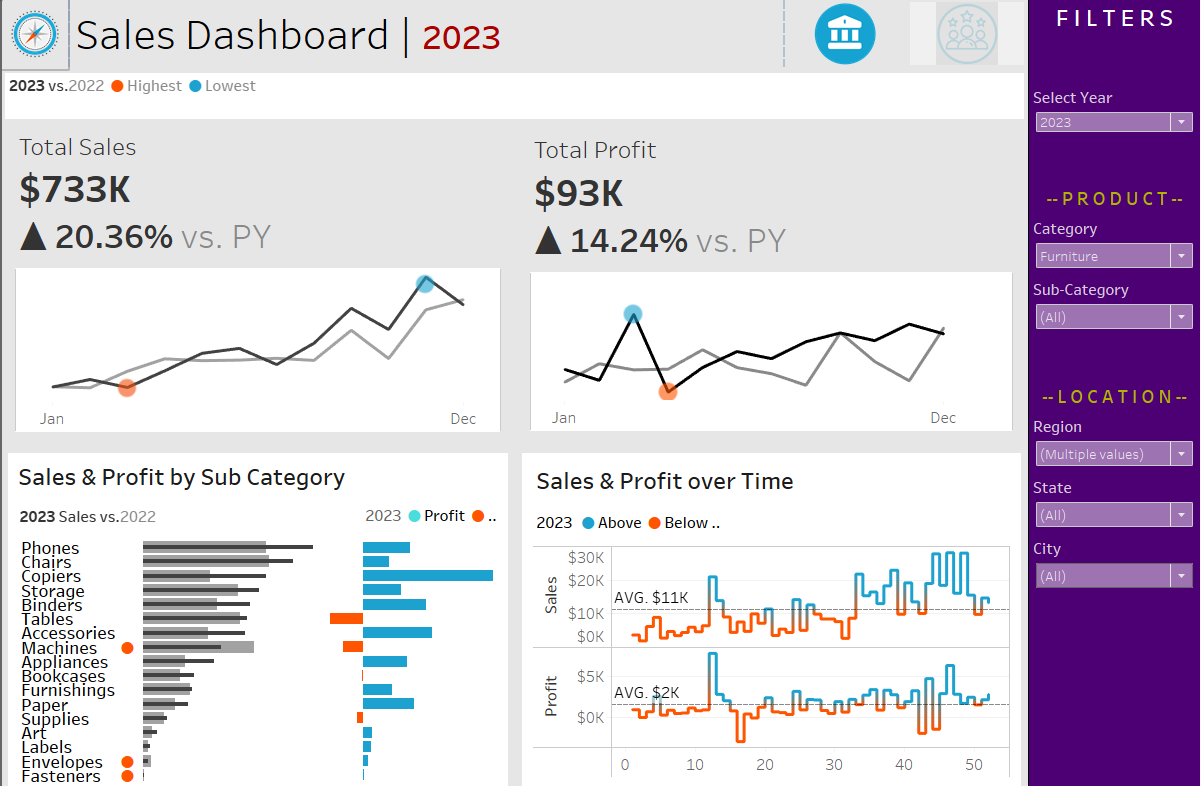

This screenshot's page, from the dashboard's own definition file:
{"tool":"tableau","page":{"name":"Sales Dashboard","canvas":[1200,800],"ordinal":0},"visuals":[{"type":"text","box":[1029,0,171,40]},{"type":"image","param":"C:/Users/Gopuu/Downloads/Sales-Dashboard-Materials/Sales Dashboard Materials/Das","box":[1,1,67,71]},{"type":"text","box":[68,1,715,71]},{"type":"dashboard-object","box":[783,1,123,71]},{"type":"dashboard-object","box":[906,1,122,71]},{"type":"blank","box":[1029,40,171,46]},{"type":"worksheet","title":"Legends KPI","mark":"Automatic","box":[1,72,1027,50]},{"type":"parameter","param":"[Parameters].[Parameter 1]","box":[1029,86,171,56]},{"type":"worksheet","title":"KPI Sales","mark":"Automatic","rows":["Calculation_87257275509354508"],"cols":["Order Date"],"box":[1,122,514,327]},{"type":"worksheet","title":"KPI Profit","mark":"Automatic","rows":["Calculation_87257275850100752","Calculation_751819695883685895"],"cols":["Order Date"],"box":[515,122,513,327]},{"type":"blank","box":[1029,142,171,42]},{"type":"text","box":[1029,184,171,33]},{"type":"filter","title":"KPI Sales","param":"[federated.1p182xn16rsotm1el2lis047682p].[none:Category:nk]","box":[1029,217,171,61]},{"type":"filter","title":"KPI Sales","param":"[federated.1p182xn16rsotm1el2lis047682p].[none:Sub-Category:nk]","box":[1029,278,171,61]},{"type":"blank","box":[1029,339,171,43]},{"type":"text","box":[1029,382,171,33]},{"type":"filter","title":"KPI Sales","param":"[federated.1p182xn16rsotm1el2lis047682p].[none:Region:nk]","box":[1029,415,171,61]},{"type":"text","box":[11,459,494,39]},{"type":"text","box":[529,463,485,39]},{"type":"filter","title":"KPI Sales","param":"[federated.1p182xn16rsotm1el2lis047682p].[none:State:nk]","box":[1029,476,171,61]},{"type":"worksheet","title":"Legends Sub Category","mark":"Automatic","box":[11,498,347,41]},{"type":"text","box":[358,498,147,41]},{"type":"text","box":[529,502,485,43]},{"type":"filter","title":"KPI Sales","param":"[federated.1p182xn16rsotm1el2lis047682p].[none:City:nk]","box":[1029,537,171,61]},{"type":"worksheet","title":"Subcategory Comparison","mark":"Bar","rows":["Sub-Category","Calculation_751819695896760330"],"cols":["CY Sales (copy)_87257275504795657","Calculation_87257275504410632","Calculation_751819695875313666"],"box":[11,539,494,250]},{"type":"worksheet","title":"Weekly Trends","mark":"Automatic","rows":["Calculation_87257275504410632","Calculation_751819695875313666"],"cols":["Order Date"],"box":[529,545,485,240]}]}

Visuals, with their boxes in screenshot pixels (x1, y1, x2, y2), scaled from the page's 1200x800 canvas onto the 1201x786 screenshot:
text: 1030, 0, 1200, 39
image: 1, 1, 68, 71
text: 68, 1, 784, 71
dashboard-object: 784, 1, 907, 71
dashboard-object: 907, 1, 1029, 71
blank: 1030, 39, 1200, 84
"Legends KPI" worksheet: 1, 71, 1029, 120
parameter: 1030, 84, 1200, 140
"KPI Sales" worksheet: 1, 120, 515, 441
"KPI Profit" worksheet: 515, 120, 1029, 441
blank: 1030, 140, 1200, 181
text: 1030, 181, 1200, 213
"KPI Sales" filter: 1030, 213, 1200, 273
"KPI Sales" filter: 1030, 273, 1200, 333
blank: 1030, 333, 1200, 375
text: 1030, 375, 1200, 408
"KPI Sales" filter: 1030, 408, 1200, 468
text: 11, 451, 505, 489
text: 529, 455, 1015, 493
"KPI Sales" filter: 1030, 468, 1200, 528
"Legends Sub Category" worksheet: 11, 489, 358, 530
text: 358, 489, 505, 530
text: 529, 493, 1015, 535
"KPI Sales" filter: 1030, 528, 1200, 588
"Subcategory Comparison" worksheet (Bar marks): 11, 530, 505, 775
"Weekly Trends" worksheet: 529, 535, 1015, 771
